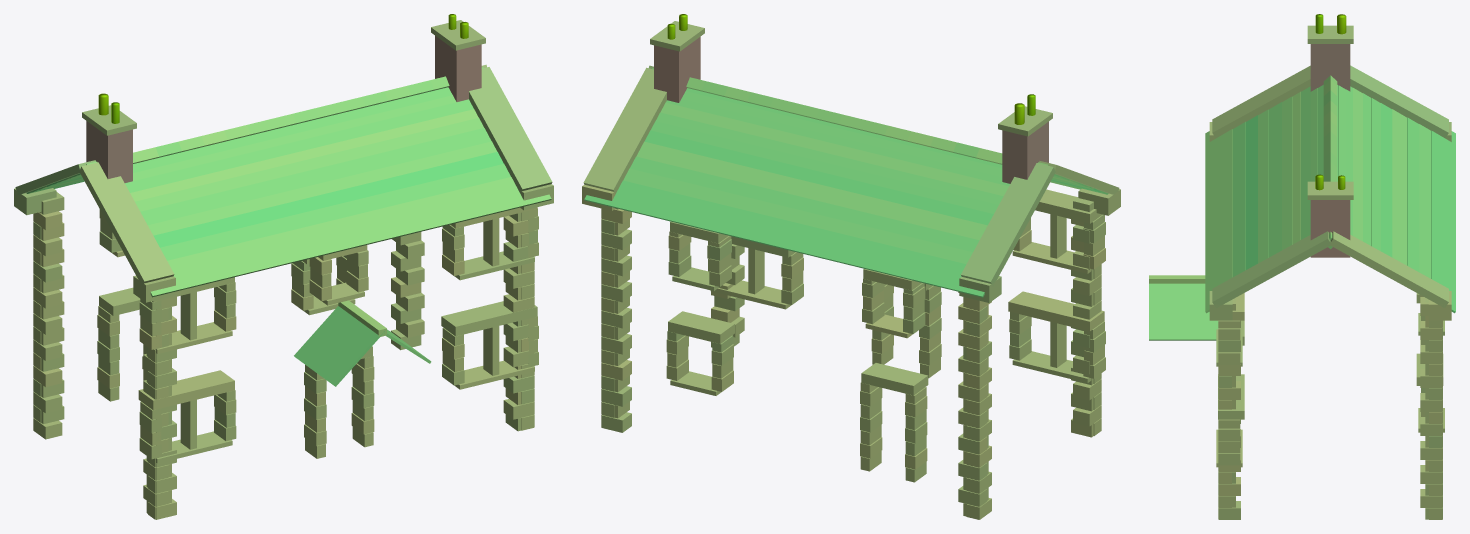
File: SM_Bld_203_Stone.glb
The picture shows the model from 3 angles, left to right: view 1: azimuth 30°, elevation 25°; view 2: azimuth 150°, elevation 25°; view 3: azimuth 270°, elevation 25°; orthographic projection. The views are drawn at different scales.
Parts seen in each view (by area): view 1: SM_Bld_203_Stone; view 2: SM_Bld_203_Stone; view 3: SM_Bld_203_Stone.
Part boxes in pixels (x1=…): SM_Bld_203_Stone: x1=14, y1=14, x2=553, y2=519; SM_Bld_203_Stone: x1=582, y1=14, x2=1120, y2=519; SM_Bld_203_Stone: x1=1149, y1=14, x2=1455, y2=519.
Bounding box in the file's own units: 9.79 × 8.53 × 6.95.
